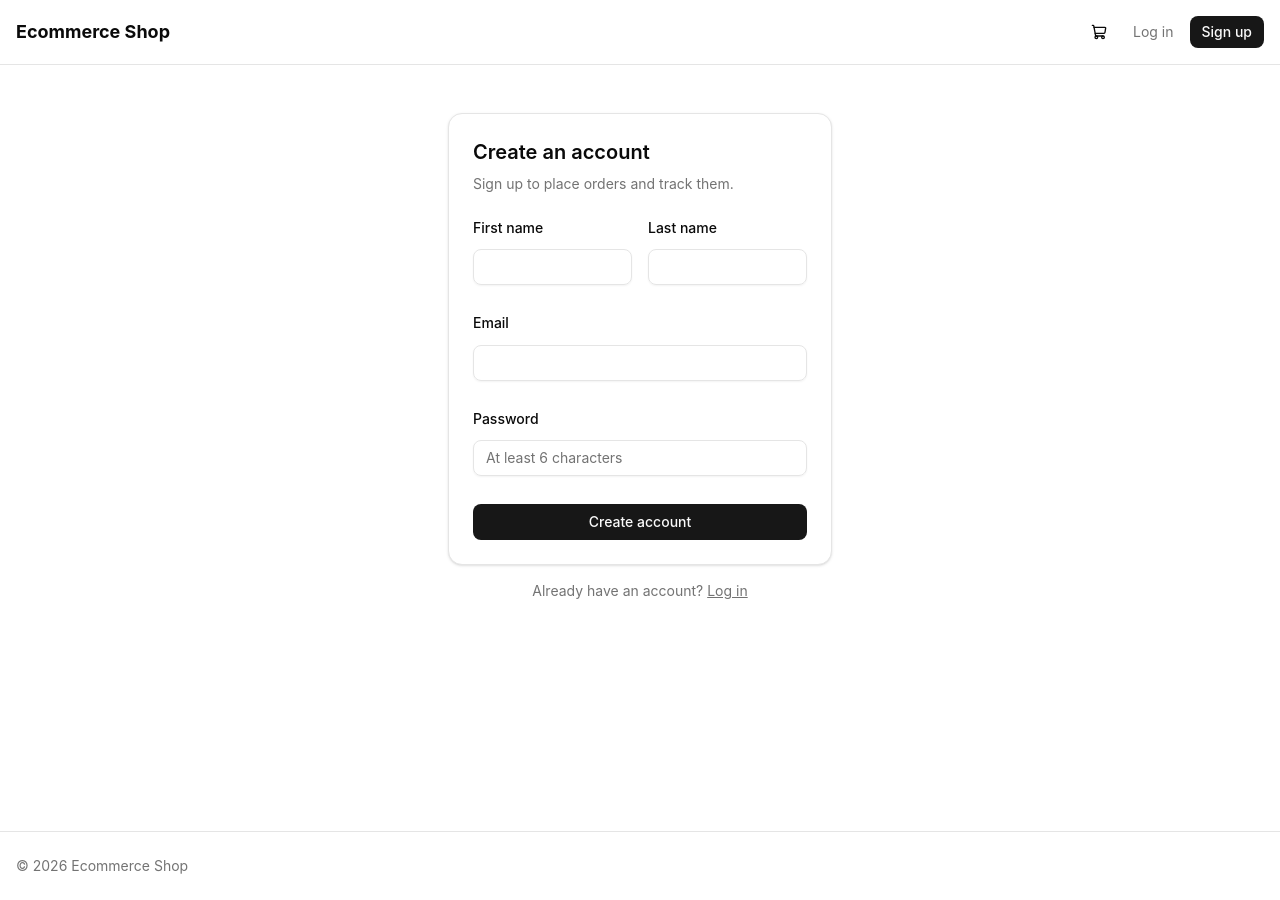
Test case: register page › shows "already registered" at the email field
In the field labelled "First name": [552, 267] box x1=473 y1=249 x2=632 y2=285, type "Jane"
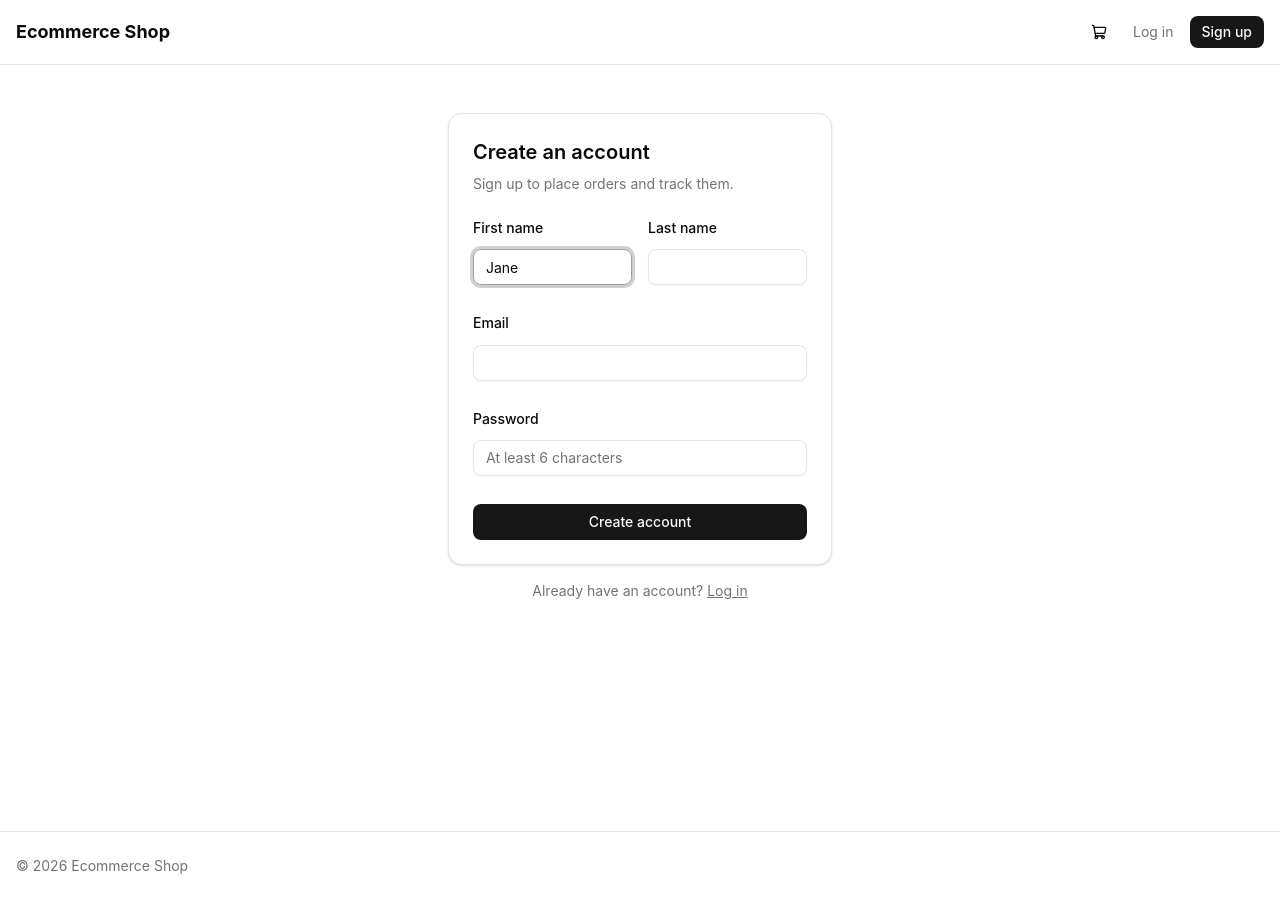
In the field labelled "Last name": [728, 267] box x1=648 y1=249 x2=807 y2=285, type "Doe"
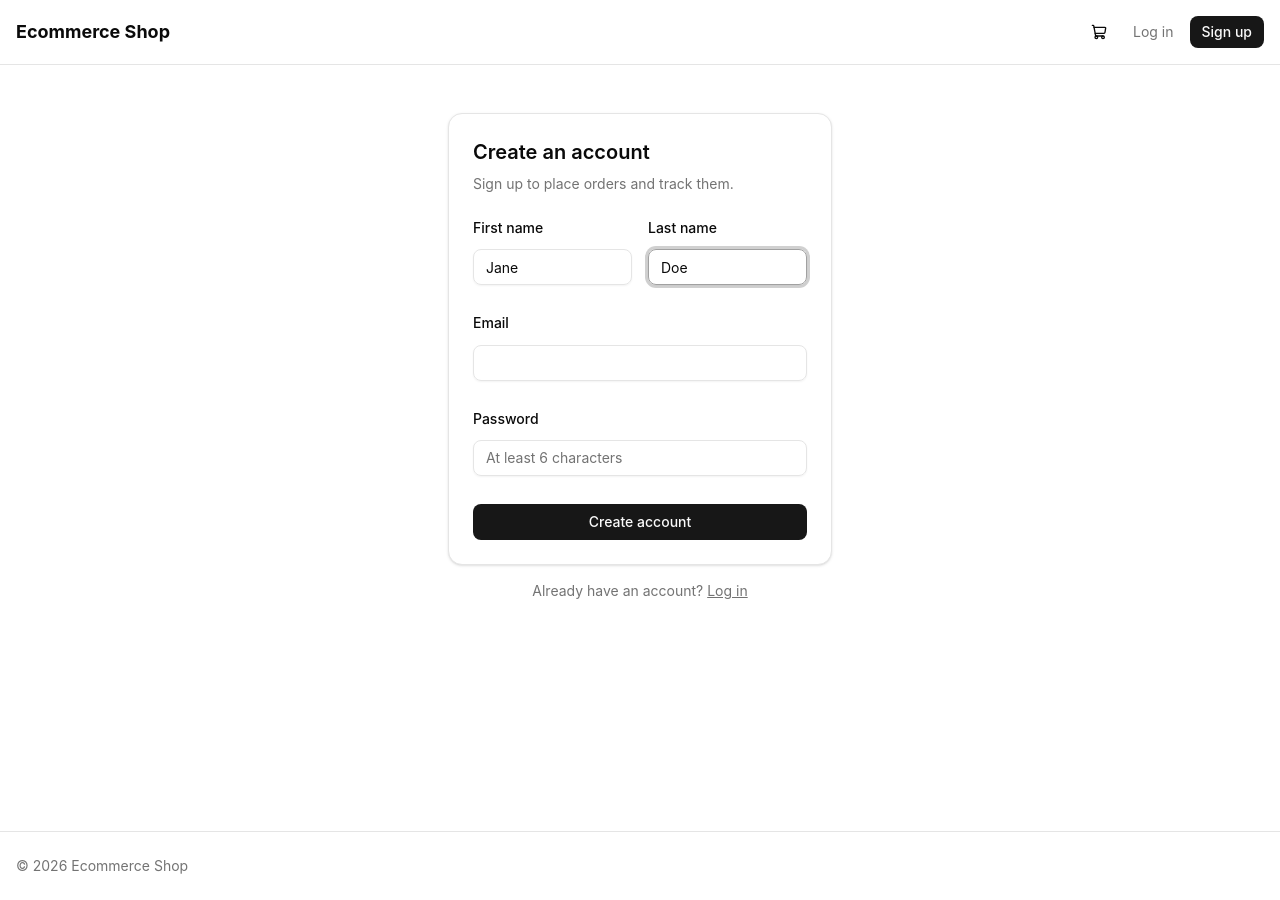
In the field labelled "Email": [640, 362] box x1=473 y1=344 x2=807 y2=380, type "jane@example.com"
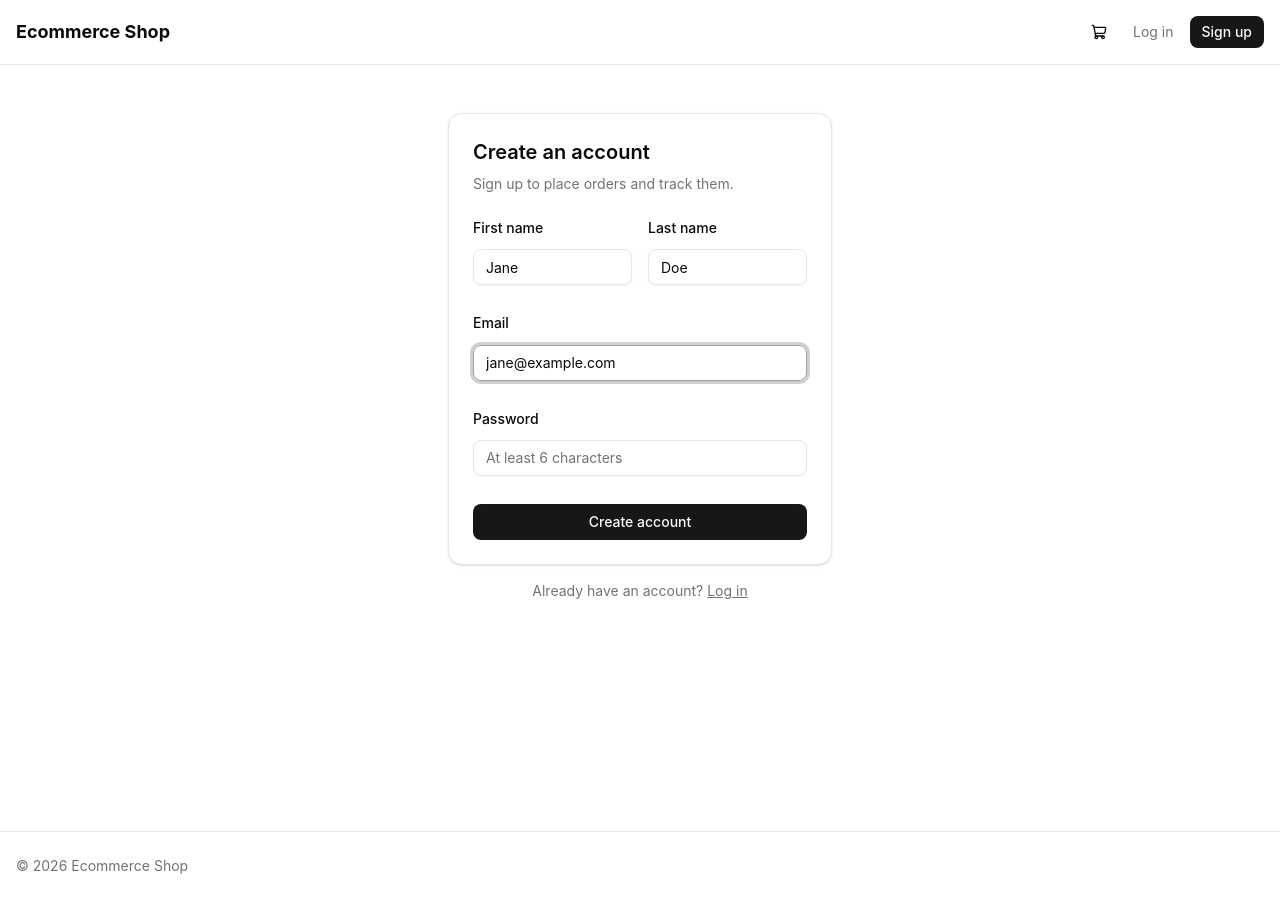
In the password field labelled "Password": [640, 458] box x1=473 y1=440 x2=807 y2=476, type "secret123"
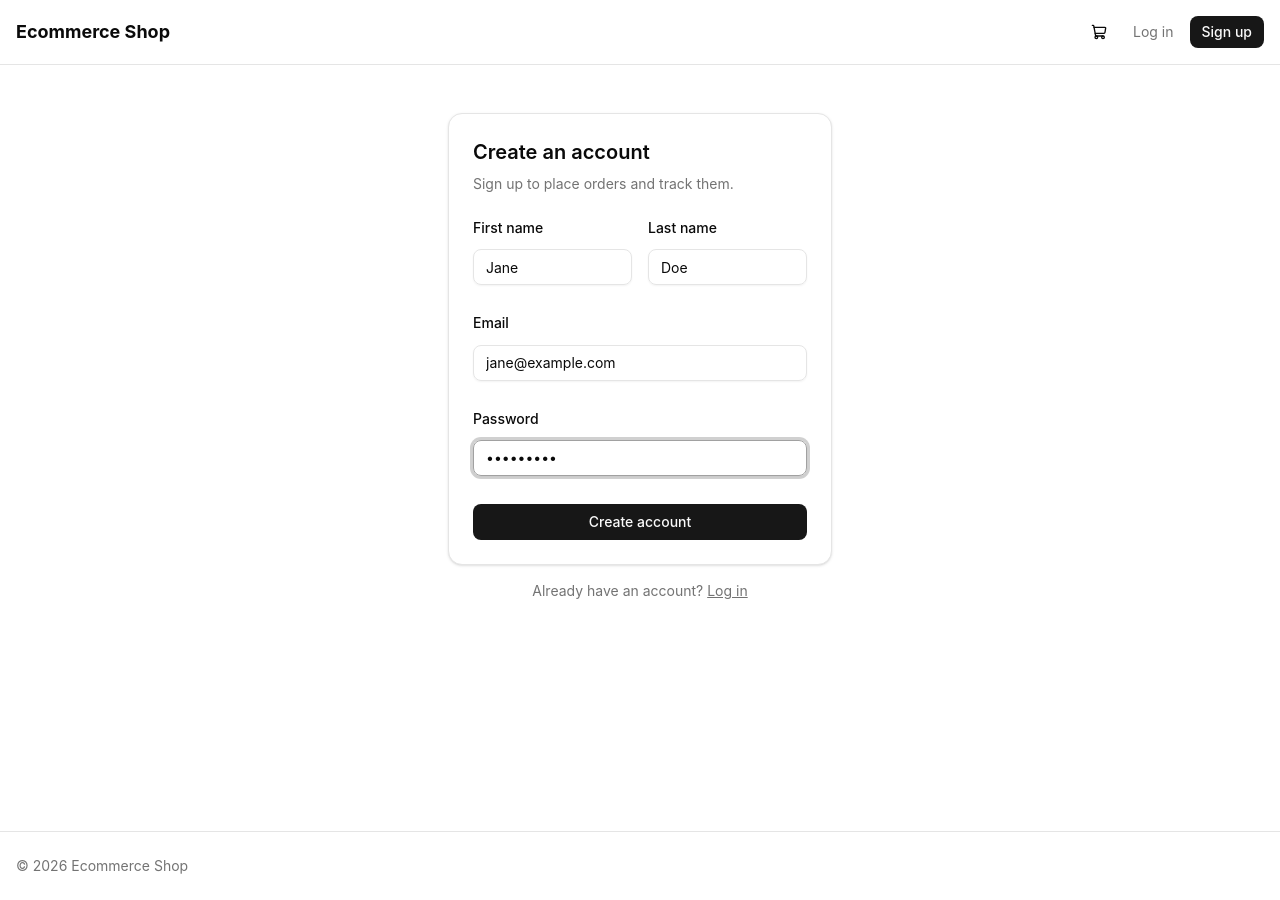
Click the button "Create account": [640, 522] box x1=473 y1=504 x2=807 y2=540
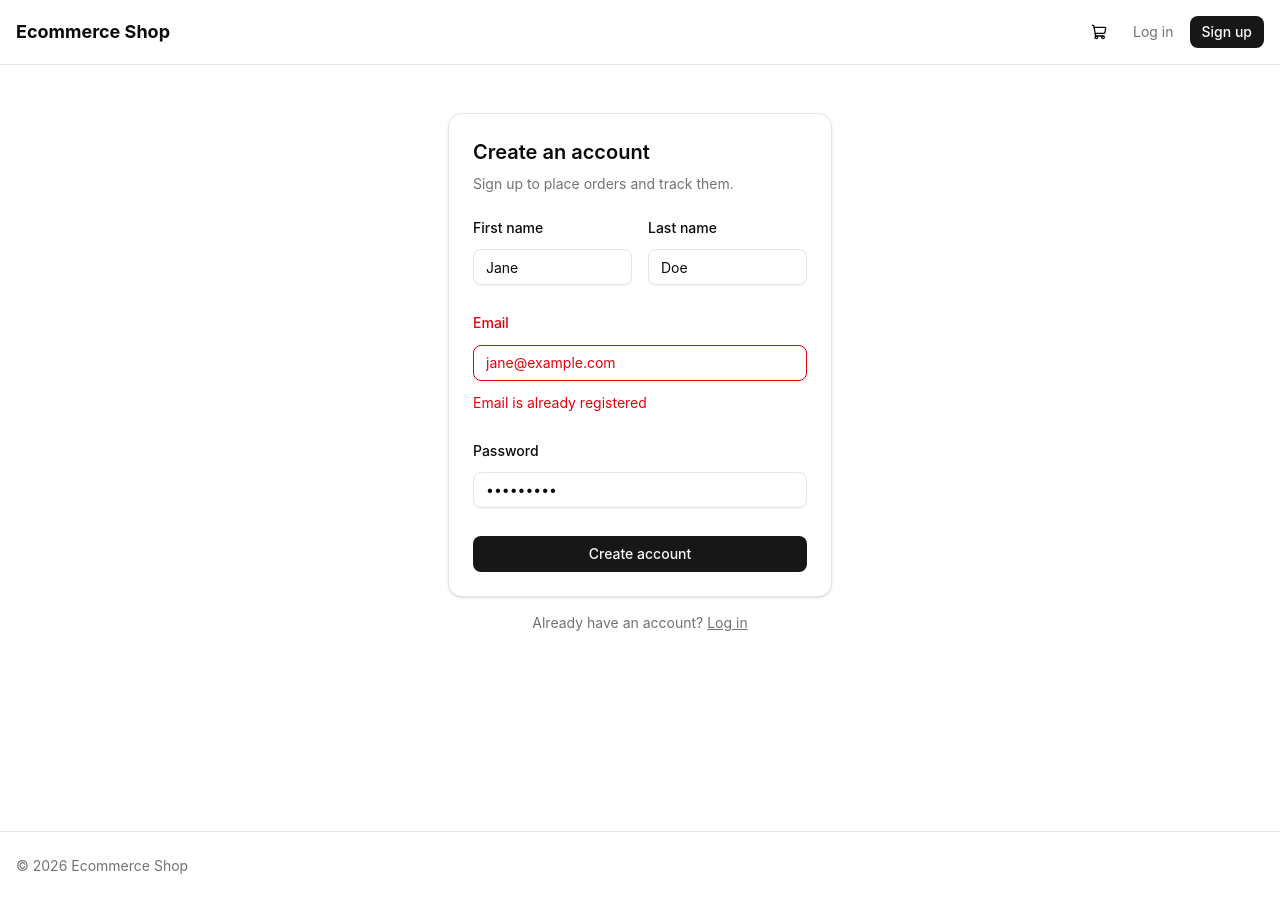
Now the text "Email is already registered" is shown, box x1=473 y1=394 x2=647 y2=410
